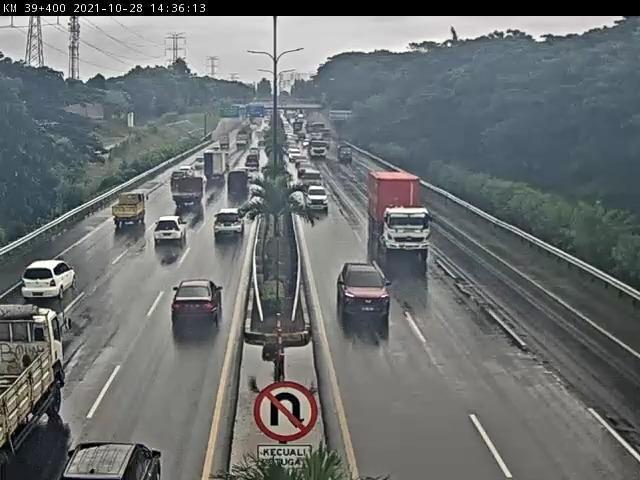car: (337, 263, 393, 324), (20, 260, 79, 303), (170, 281, 224, 327), (210, 208, 248, 243), (154, 215, 190, 248), (225, 168, 253, 196), (306, 187, 333, 212), (304, 170, 327, 193), (169, 170, 190, 186), (178, 165, 198, 181)
truck: (2, 305, 69, 467), (368, 172, 432, 262), (168, 176, 208, 215), (111, 192, 148, 230), (205, 151, 234, 188)
